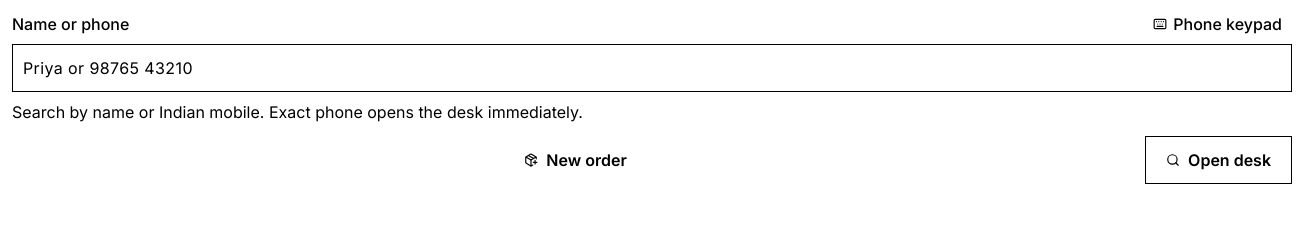
it: PartnerCustomerDeskSearch › rejects 9-digit phone with inline error
This screenshot has width=1304, height=233.
Type "987654321" into the search field with placeholder "Priya or 98765 43210" at [652, 68], box left=12, top=44, right=1292, bottom=92
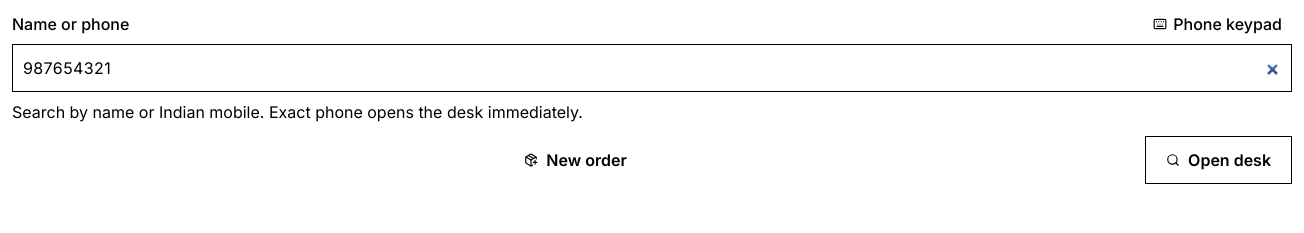
Click the button "New order" at [576, 160], box left=12, top=136, right=1139, bottom=184
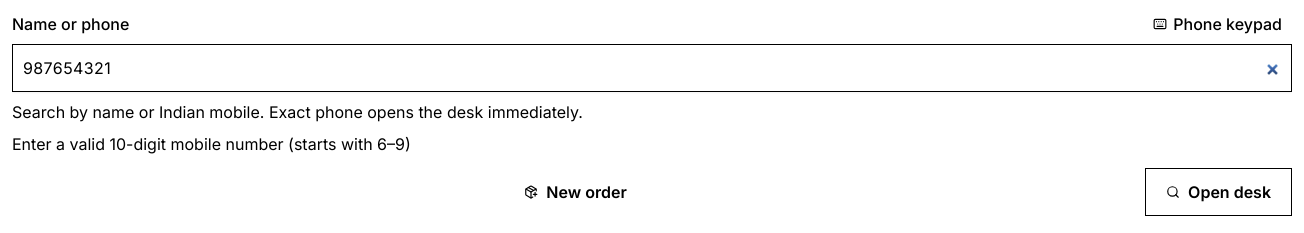
Now the text "Enter a valid 10-digit mobile number (starts with 6–9)" is shown, box left=12, top=134, right=411, bottom=154
